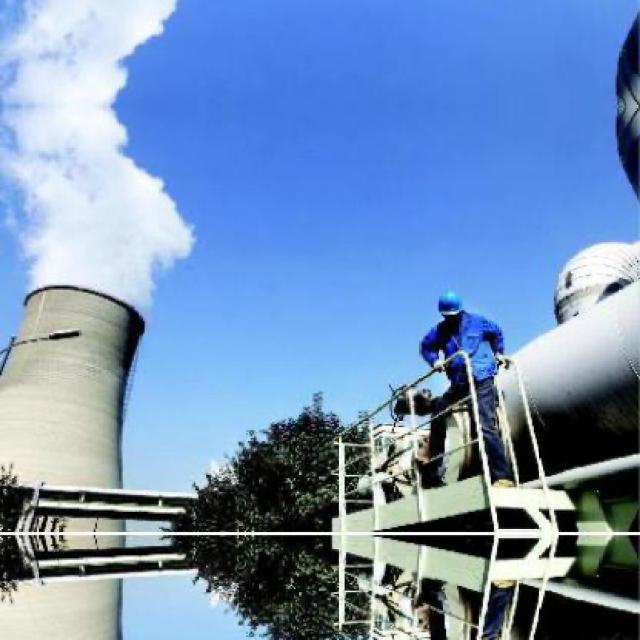con casco: (418, 270, 488, 336)
